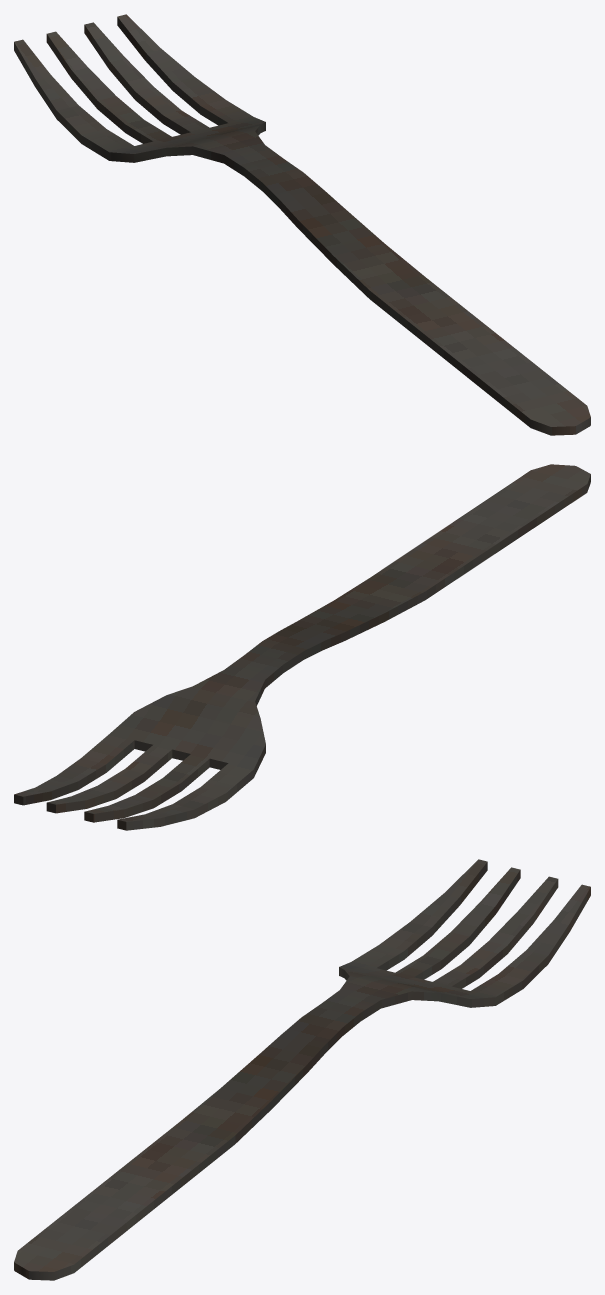
The model's file is fork_mp_1.glb.
3 views of the same model, one above another, from view 1: azimuth 30°, elevation 25°; view 2: azimuth 150°, elevation 25°; view 3: azimuth 330°, elevation 25° (orthographic).
Visible parts, largest first — view 1: fork_mp_1; view 2: fork_mp_1; view 3: fork_mp_1.
Boxes of the visible parts, x1,y1,x2,y2 form: fork_mp_1: (14,14,590,435); fork_mp_1: (14,464,590,830); fork_mp_1: (14,859,590,1280).
Size of the model in its own units: 0.045 by 0.013 by 0.2725.
1 material, 1 textured.
